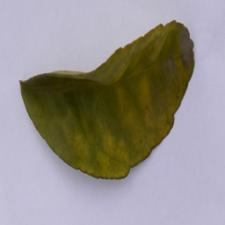Greening: (30, 40, 196, 158)
